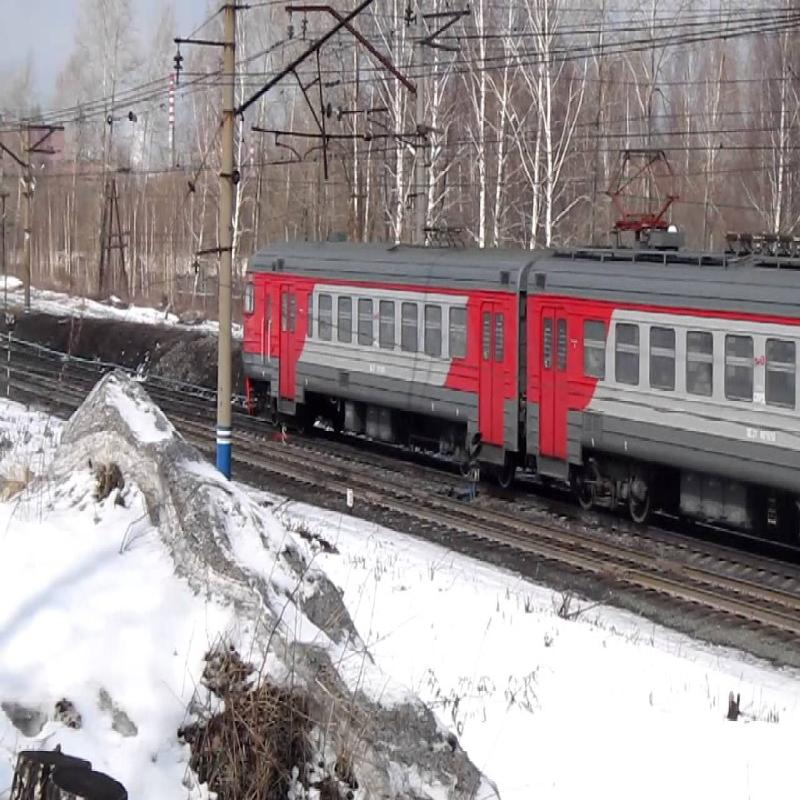train: (225, 210, 544, 493), (534, 199, 800, 537)
